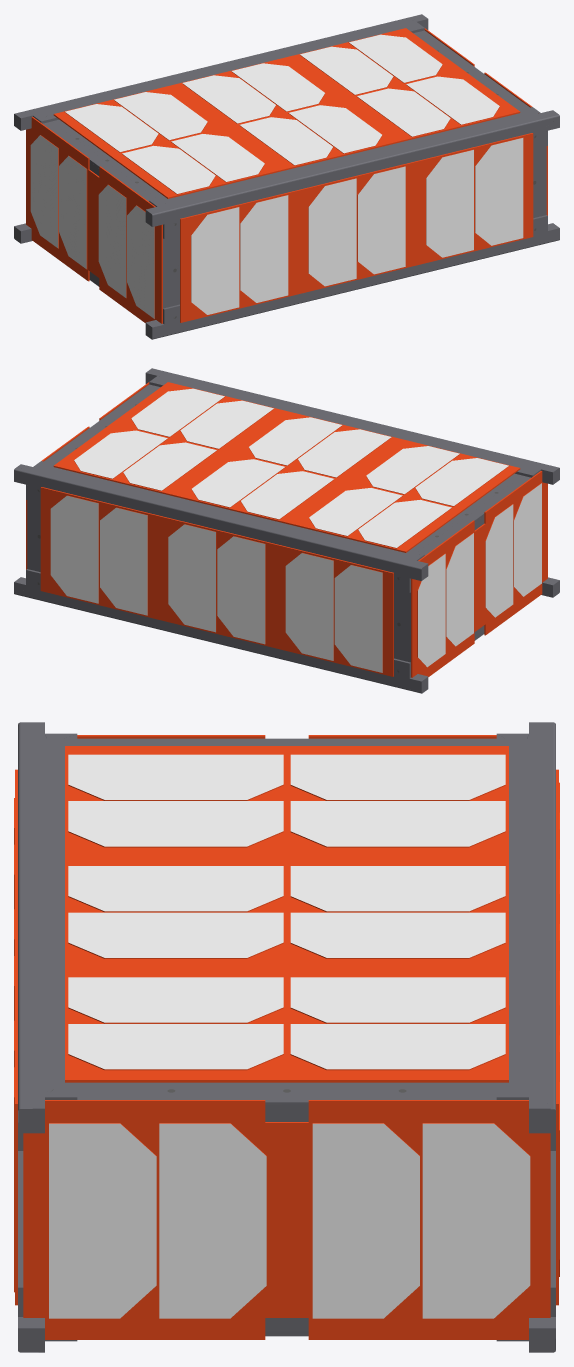
The model's file is cubesat_6u -White Cell Red plate & 0 shine.dae.
The picture shows the model from 3 angles, top to bottom: view 1: azimuth 30°, elevation 25°; view 2: azimuth 150°, elevation 25°; view 3: azimuth 270°, elevation 25°; orthographic projection. The views are drawn at different scales.
Parts seen in each view (by area): view 1: Plus-Z-Cells, Minus-Y-Cells, 6U-Cubesat, Plus-Z-Plate, Minus-X-Cells, Minus-Y-Plate, Minus-X-Plate, Plus-X-Plate; view 2: Plus-Z-Cells, Plus-Y-Cells, 6U-Cubesat, Plus-Z-Plate, Minus-X-Cells, Plus-Y-Plate, Minus-X-Plate, Plus-X-Plate; view 3: Plus-Z-Cells, Plus-X-Cells, 6U-Cubesat, Plus-X-Plate, Plus-Z-Plate, Minus-Y-Plate, Plus-Y-Plate, Minus-X-Plate.
Boxes of the visible parts, x1,y1,x2,y2 form: Plus-Z-Cells: (65, 34, 499, 193); Minus-Y-Cells: (191, 138, 523, 314); 6U-Cubesat: (14, 14, 559, 339); Plus-Z-Plate: (53, 28, 520, 198); Minus-X-Cells: (30, 135, 154, 318); Minus-Y-Plate: (180, 133, 533, 322); Minus-X-Plate: (26, 116, 162, 323); Plus-X-Plate: (424, 28, 547, 215); Plus-Z-Cells: (74, 388, 508, 547); Plus-Y-Cells: (50, 496, 382, 672); 6U-Cubesat: (14, 368, 559, 693); Plus-Z-Plate: (53, 382, 520, 552); Minus-X-Cells: (418, 483, 541, 667); Plus-Y-Plate: (40, 487, 393, 676); Minus-X-Plate: (411, 471, 547, 677); Plus-X-Plate: (26, 382, 149, 569); Plus-Z-Cells: (68, 754, 505, 1069); Plus-X-Cells: (49, 1123, 530, 1318); 6U-Cubesat: (18, 722, 555, 1352); Plus-X-Plate: (23, 1100, 550, 1339); Plus-Z-Plate: (65, 746, 508, 1082); Minus-Y-Plate: (14, 769, 17, 1305); Plus-Y-Plate: (556, 769, 559, 1305); Minus-X-Plate: (77, 735, 496, 738).
Size of the model in its own units: 0.4016 by 0.2398 by 0.1217.
